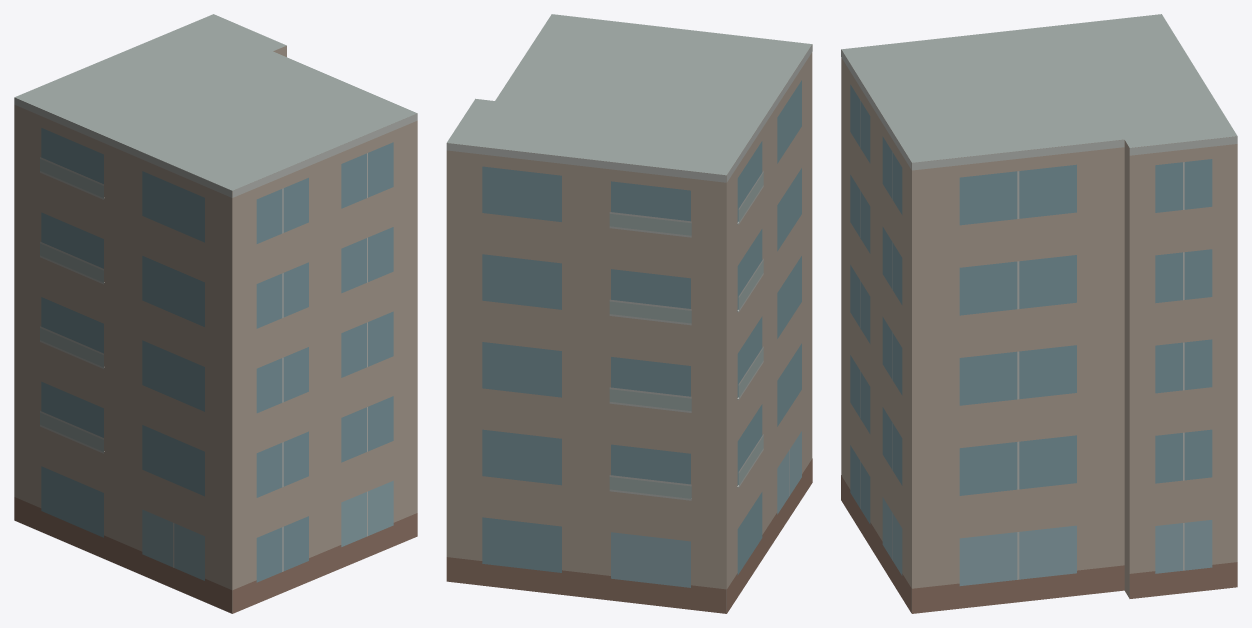
The model's file is survey-upis-32686873.glb.
3 views of the same model, side by side, from view 1: azimuth 30°, elevation 25°; view 2: azimuth 150°, elevation 25°; view 3: azimuth 270°, elevation 25° (orthographic). The views are drawn at different scales.
Parts seen in each view (by area): view 1: survey-upis-32686873.tmp; view 2: survey-upis-32686873.tmp; view 3: survey-upis-32686873.tmp.
Part boxes in pixels (<box>): survey-upis-32686873.tmp: <box>14,14,417,613</box>; survey-upis-32686873.tmp: <box>446,14,812,613</box>; survey-upis-32686873.tmp: <box>841,14,1237,613</box>.
Size of the model in its own units: 10.13 by 14.3 by 11.4.
